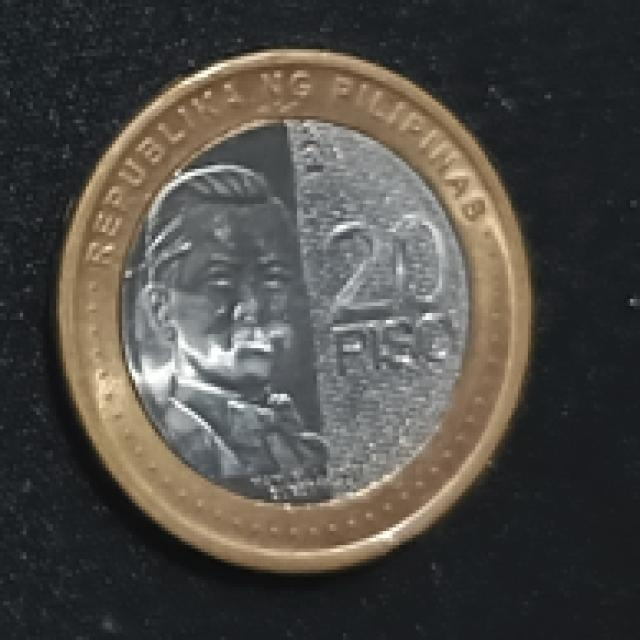20_peso: (59, 53, 528, 566)
